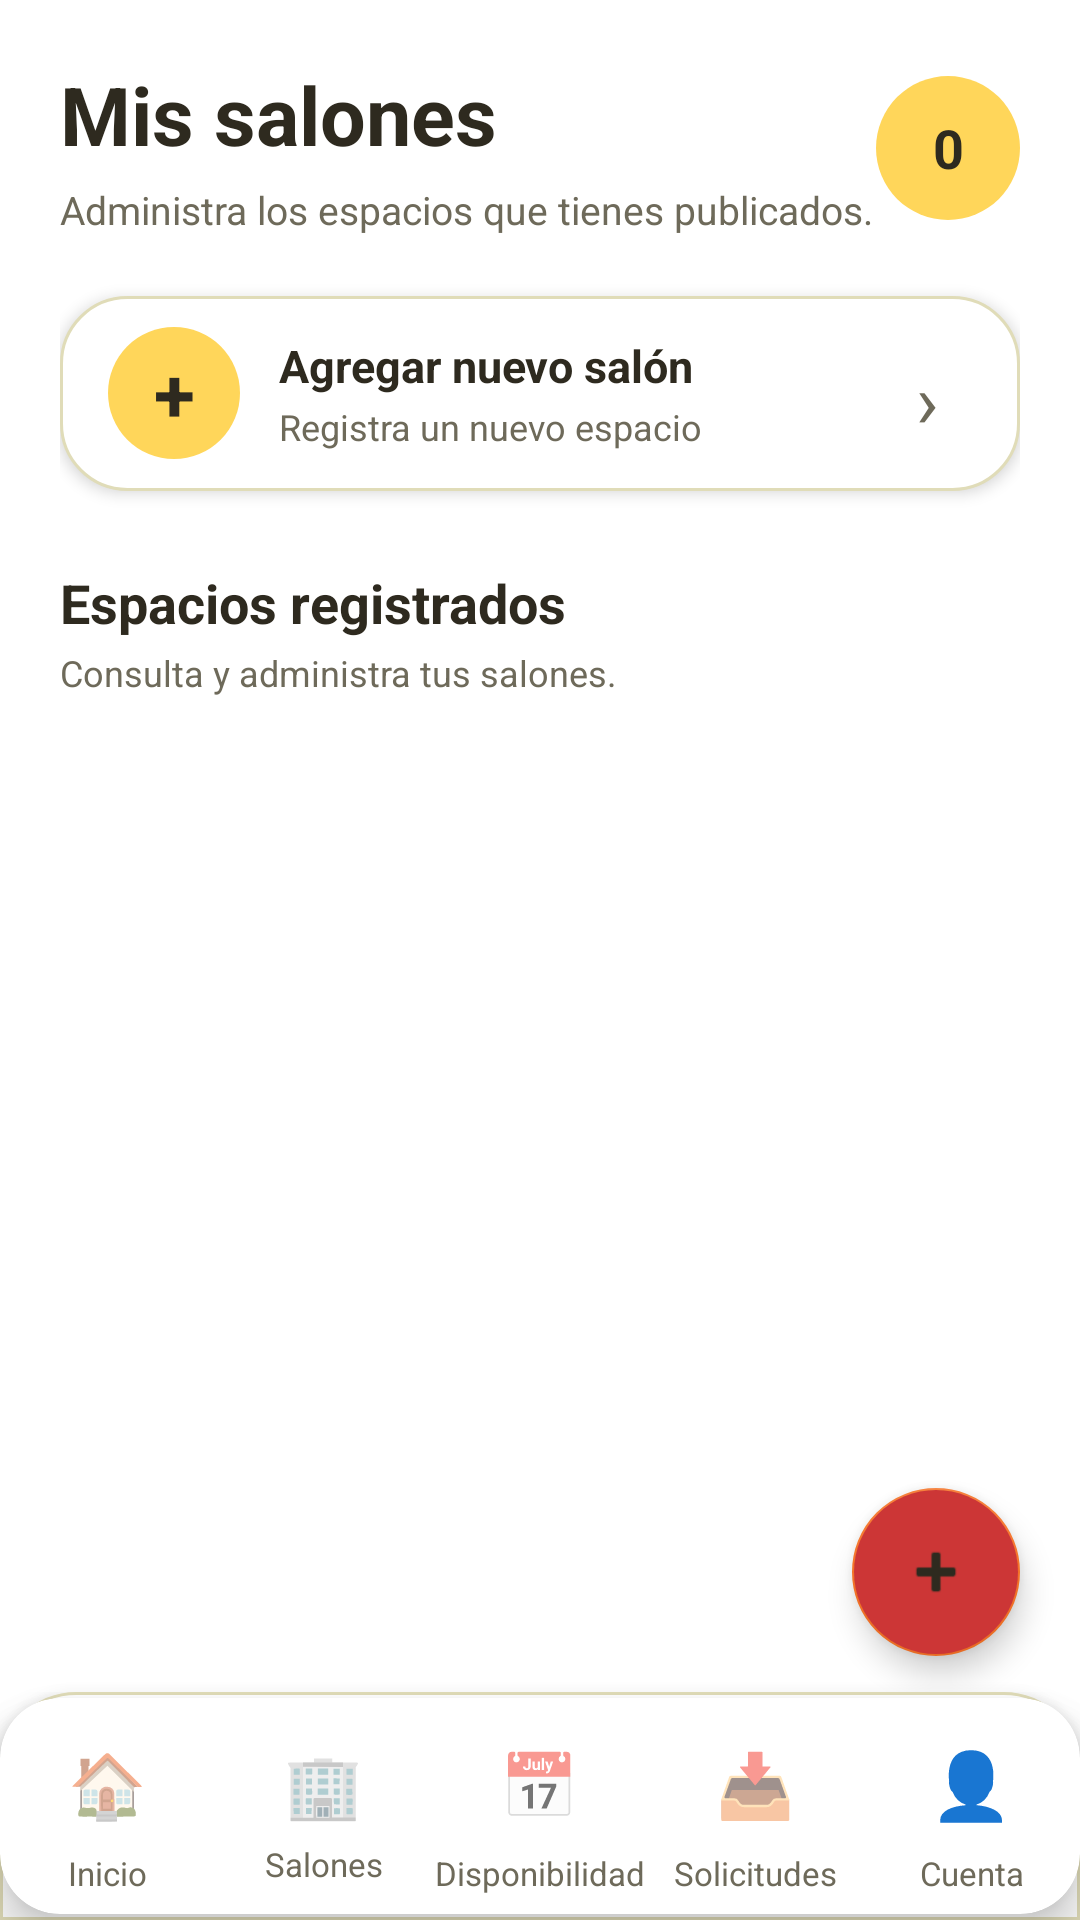

Icon bounding boxes for this 1080x1920 phone screenshot, format rect(x1, y1, x2, y2):
Agregar salón: rect(852, 1488, 1020, 1656)
